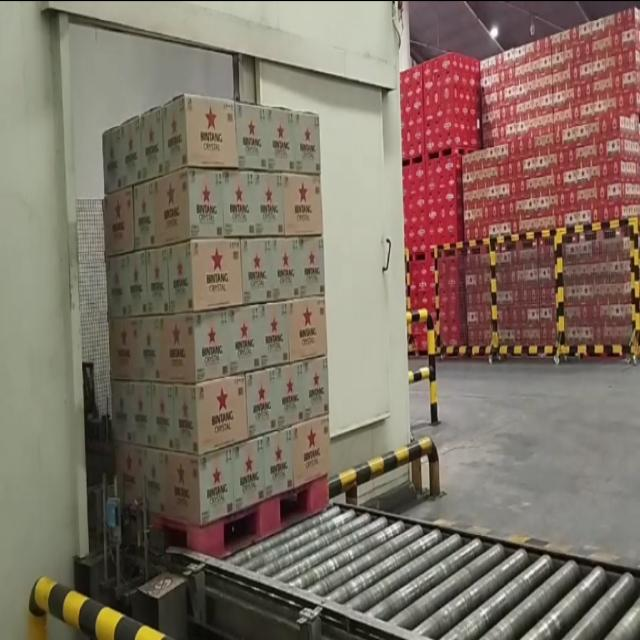pallet: (94, 78, 340, 572)
